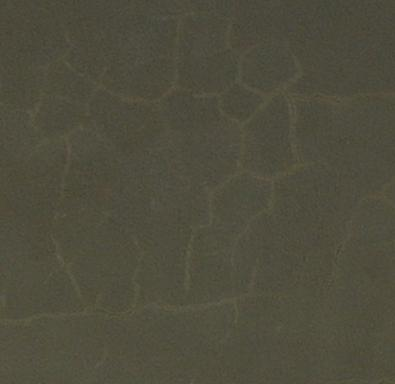fissura: (10, 5, 386, 365)
